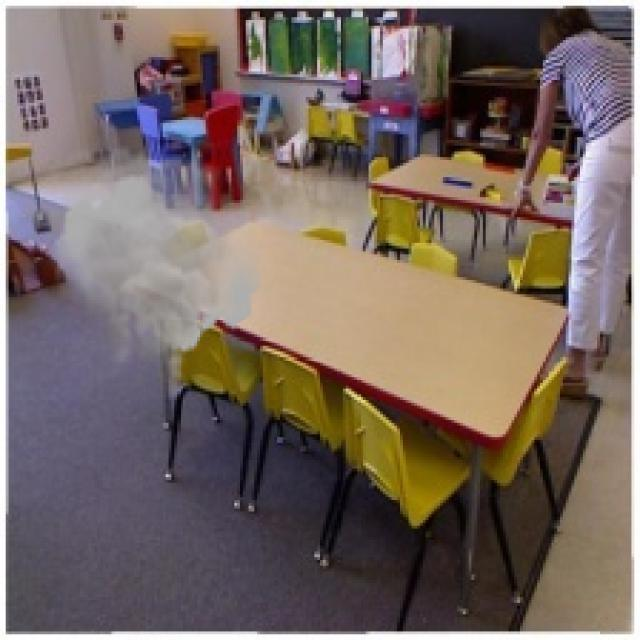Smoke: (20, 140, 266, 403)
